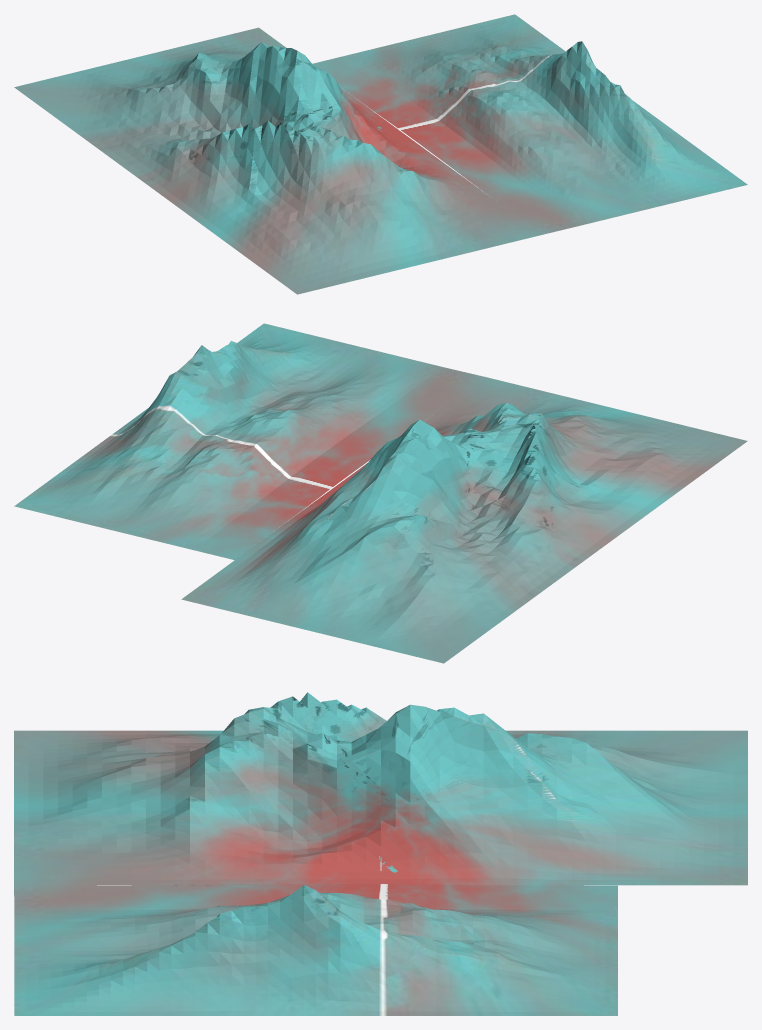
Rendered from terrain.gltf.
3 renders of one model, top to bottom at view 1: azimuth 30°, elevation 25°; view 2: azimuth 150°, elevation 25°; view 3: azimuth 270°, elevation 25°, orthographic. The views are drawn at different scales.
Visible parts, largest first — view 1: left.1; view 2: left.1; view 3: left.1.
Part boxes in pixels (<box>): left.1: <box>14,14,747,294</box>; left.1: <box>14,323,747,663</box>; left.1: <box>14,692,747,1015</box>.
Size of the model in its own units: 11545 by 2323 by 12566.
Materials: 1 (1 with a texture image).
